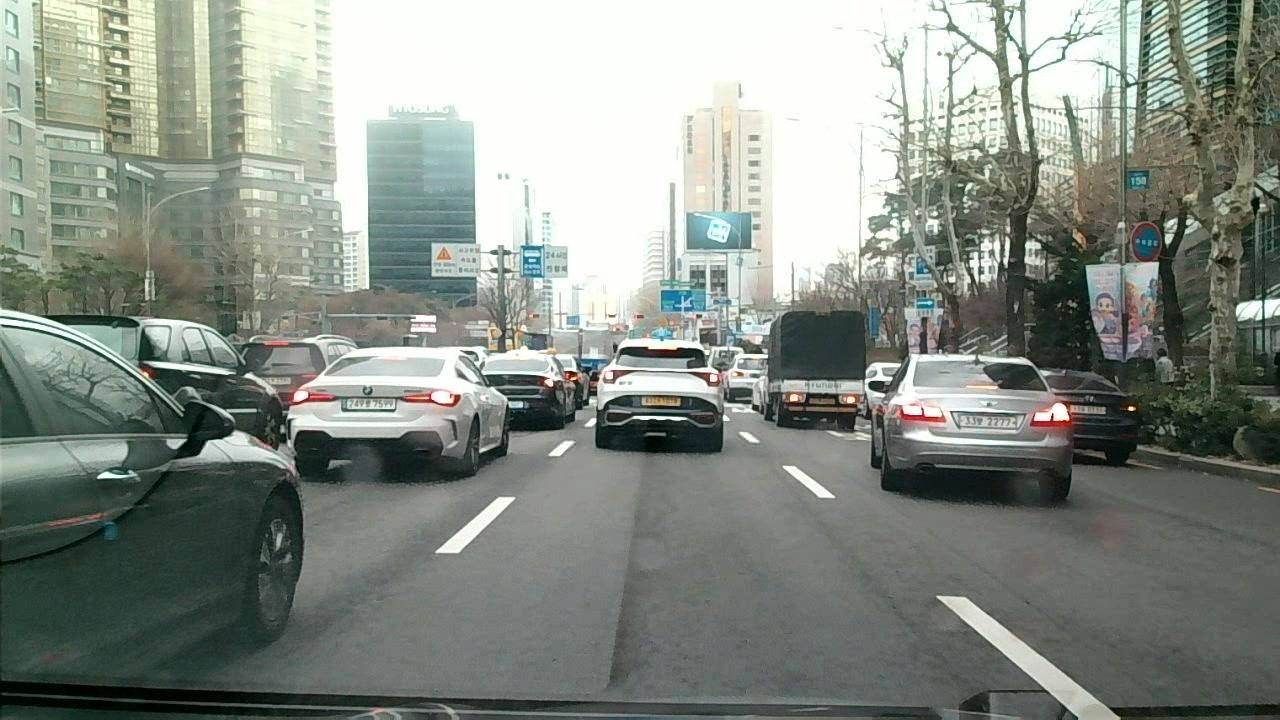vcrack: (603, 509, 642, 688)
